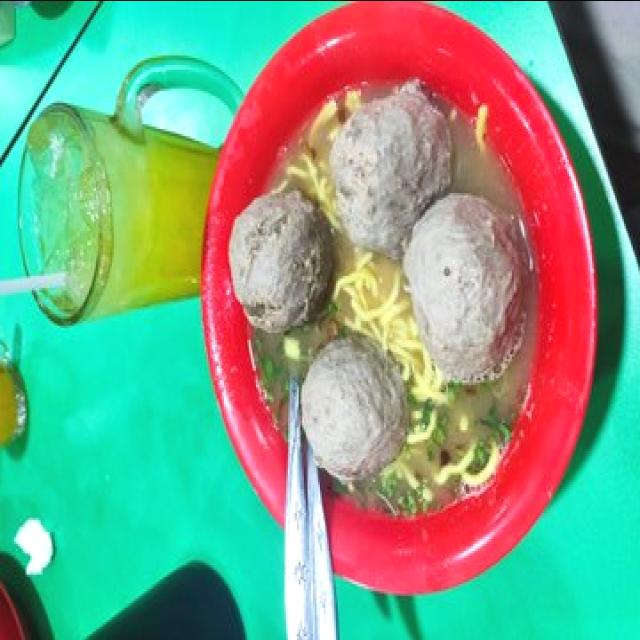bakso: (229, 78, 537, 512)
